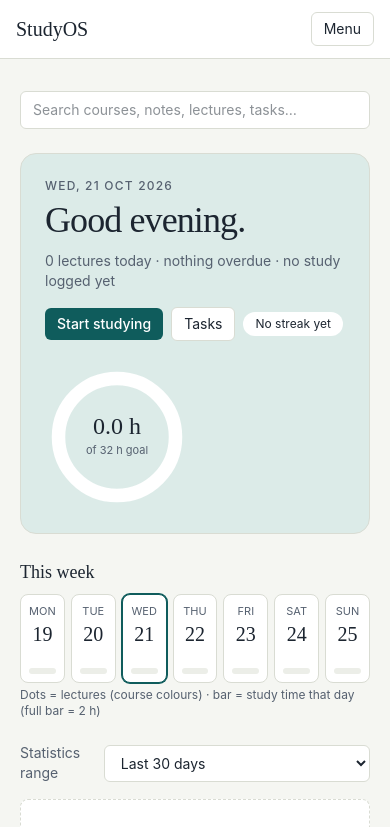
it: shell › mobile menu opens and closes with Escape
Click the button "Menu" at coordinates (342, 29), box [311,12,374,46]
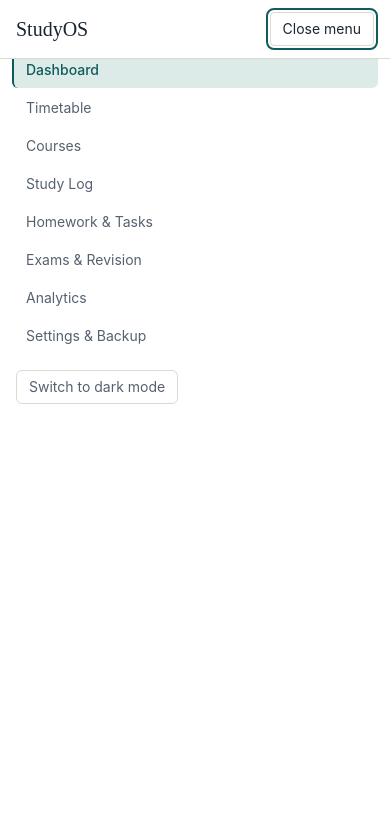
expect the button "Close menu" is expanded: met, box [270,12,374,46]
Press Escape
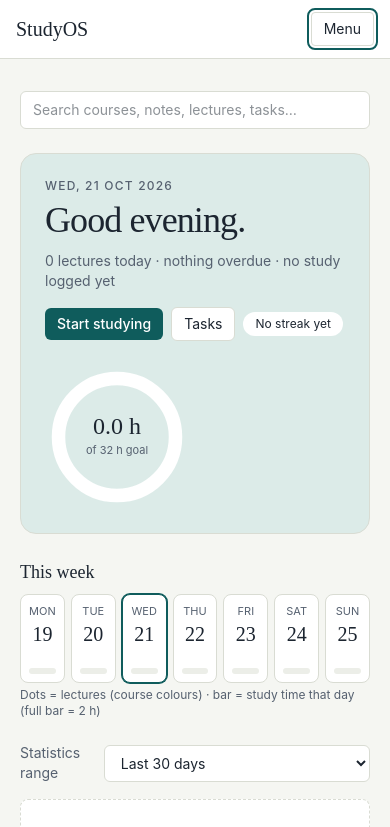
expect the button "Menu" is collapsed: met, box [311,12,374,46]
